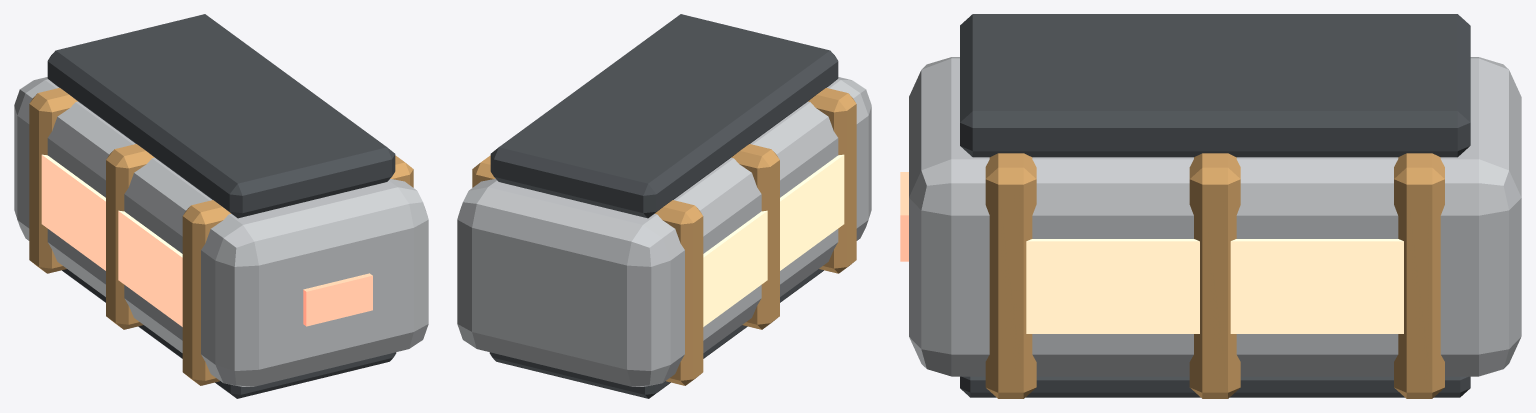
The model's file is part_clanek.glb.
The picture shows the model from 3 angles, left to right: view 1: azimuth 30°, elevation 25°; view 2: azimuth 150°, elevation 25°; view 3: azimuth 270°, elevation 25°; orthographic projection. The views are drawn at different scales.
Visible parts, largest first — view 1: Clanek; view 2: Clanek; view 3: Clanek.
Part boxes in pixels (box(x1,y1,x2,y2)): Clanek: box(14, 14, 428, 398); Clanek: box(457, 14, 871, 398); Clanek: box(900, 14, 1521, 398).
Size of the model in its own units: 0.04 by 0.037 by 0.073.
